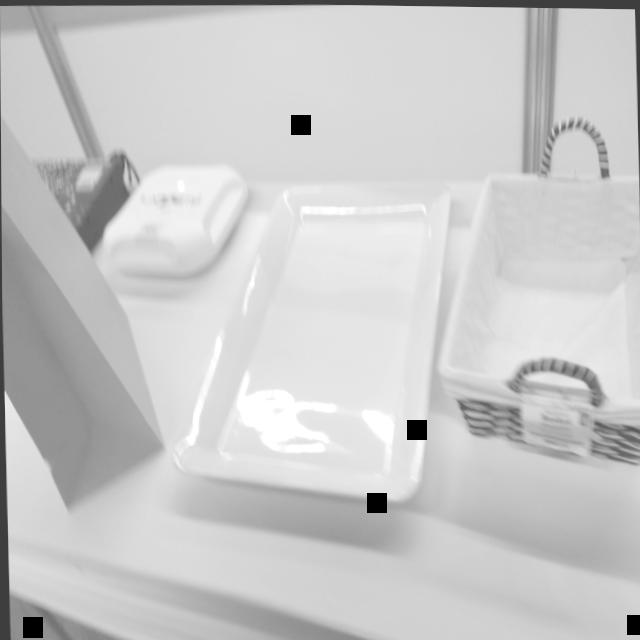basket: (427, 108, 640, 475)
tray: (155, 164, 463, 513)
